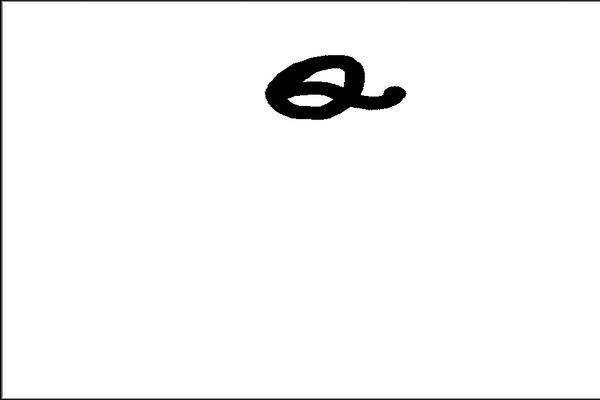Q: (257, 40, 415, 128)
